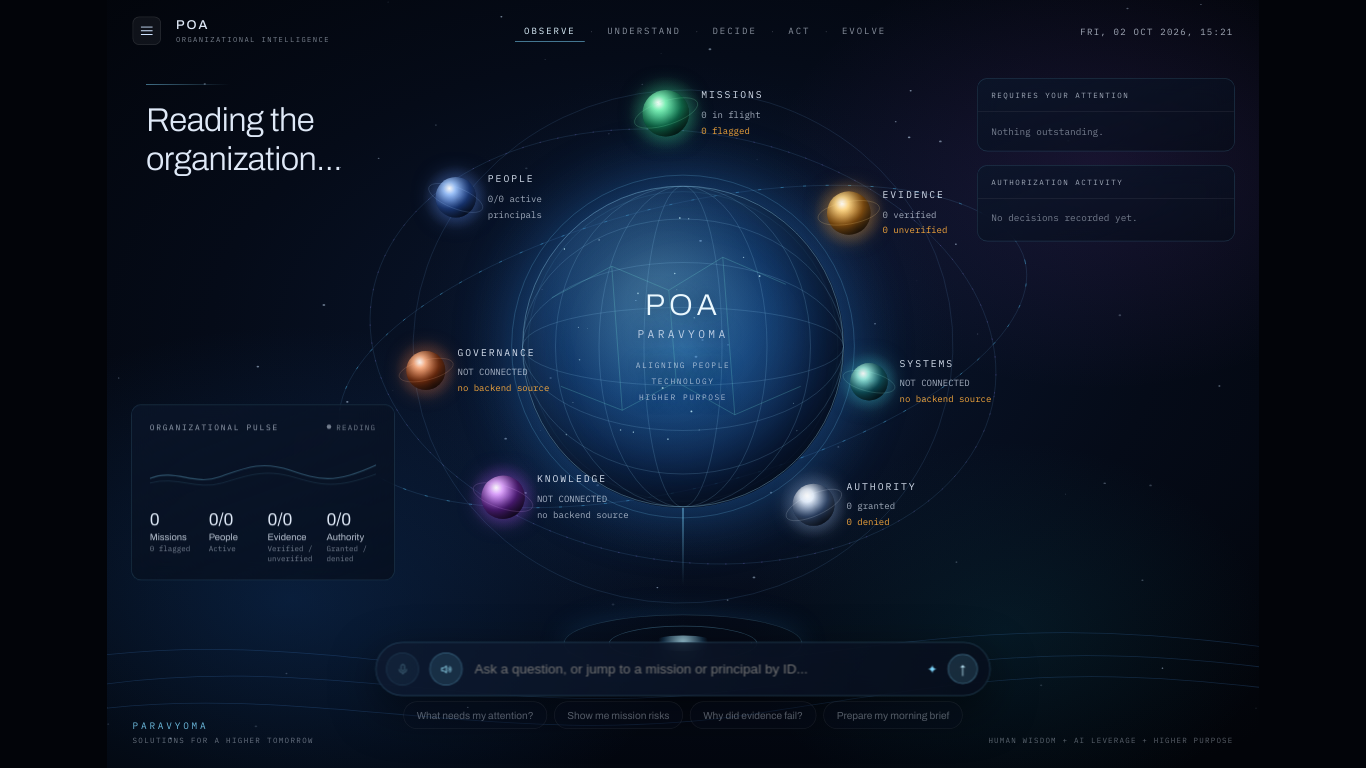
Test case: Project Surface — POA-PJR-001 › shows the full Repository Reference on every entry and every addendum
Click the button named "Open command overlay" at [147, 31], box [132,16,161,45]
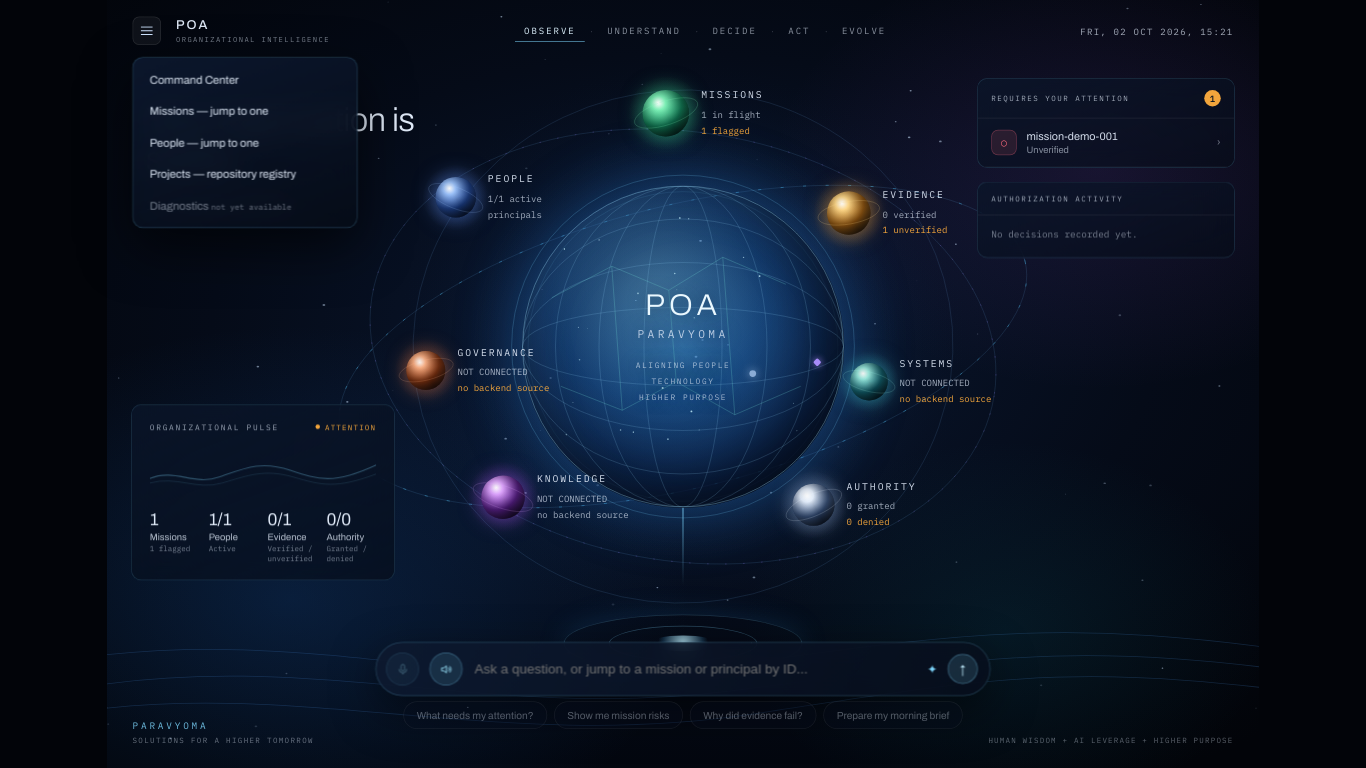
Click the button "Projects — repository registry" at [245, 174], box [139,158,351,190]
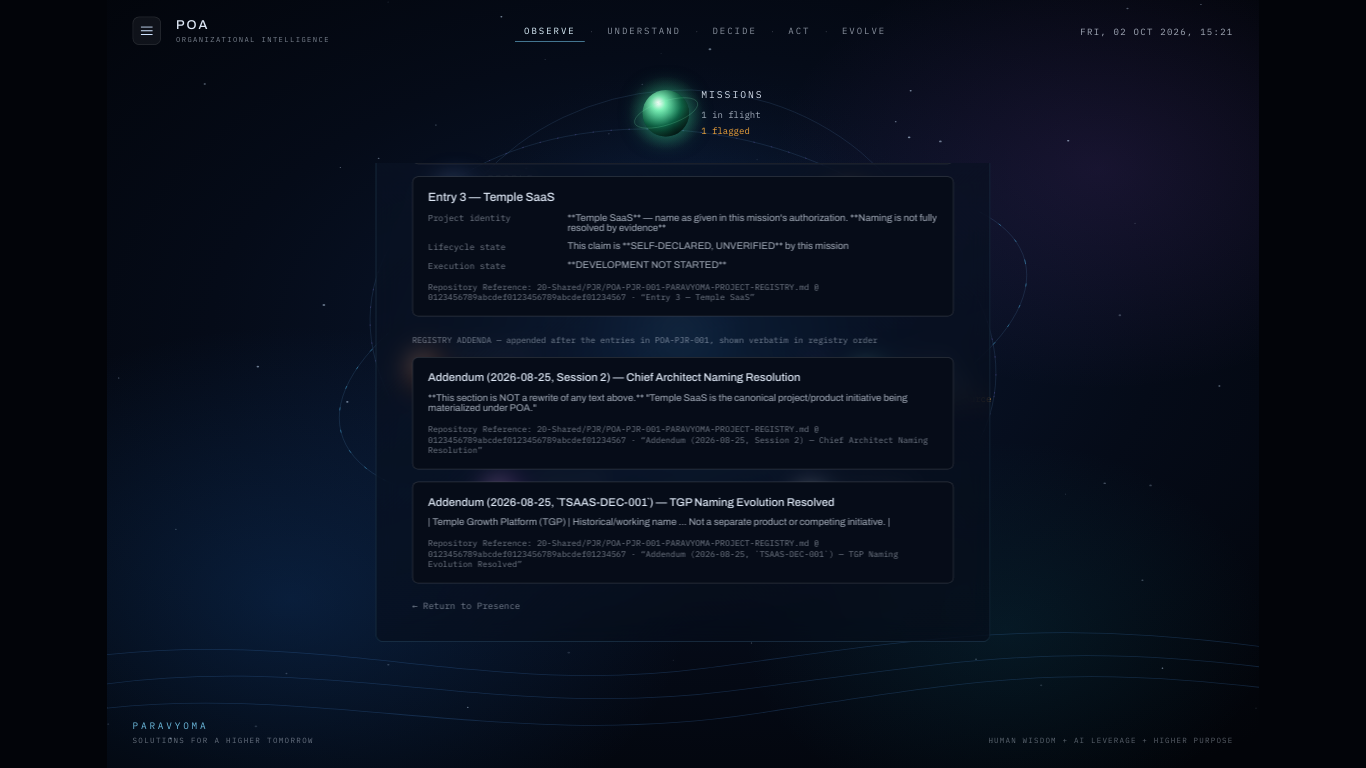
expect the text with test id "repository-reference" shows "20-Shared/PJR/POA-PJR-001-PARAVYOMA-PROJECT-REGISTRY.md": met, box [537,281,809,292]
expect the text with test id "repository-reference" shows "0123456789abcdef0123456789abcdef01234567": met, box [428,292,626,302]
expect the text with test id "repository-reference" shows "Entry 3 — Temple SaaS": met, box [646,292,750,302]
